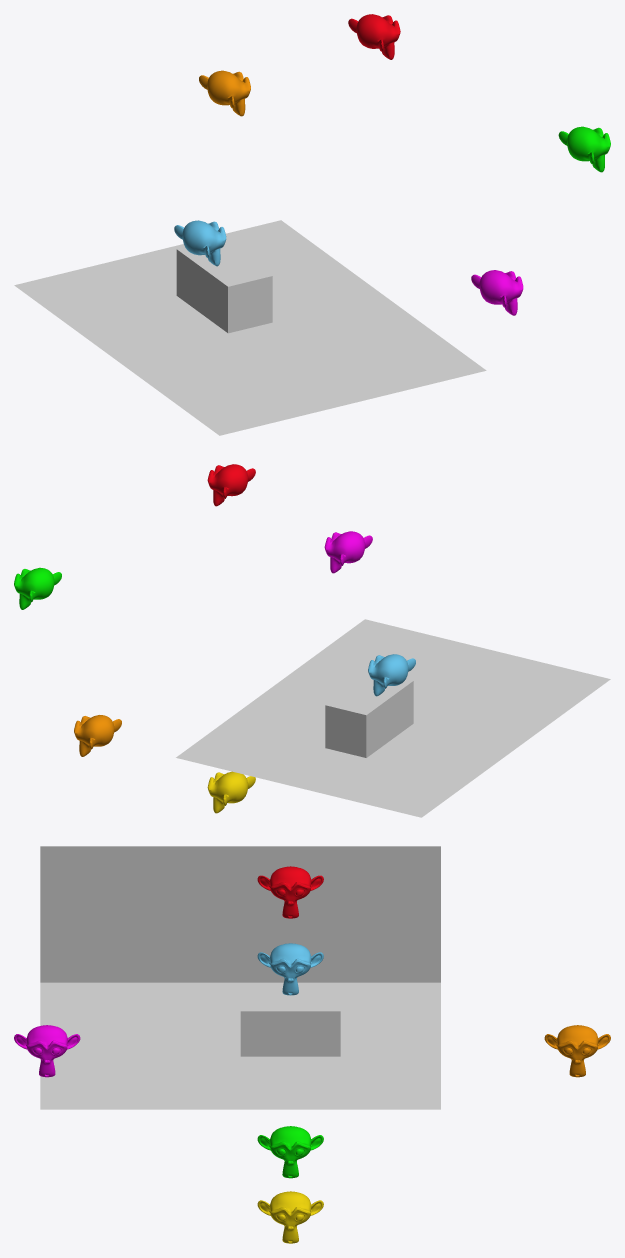
The model's file is webflow manky.glb.
3 renders of one model, top to bottom at view 1: azimuth 30°, elevation 25°; view 2: azimuth 150°, elevation 25°; view 3: azimuth 270°, elevation 25°, orthographic. The views are drawn at different scales.
Visible parts, largest first — view 1: Plane, Cube, Suzanne.004, Suzanne, Suzanne.005, Suzanne.002, Suzanne.001; view 2: Plane, Cube, Suzanne.004, Suzanne.001, Suzanne.002, Suzanne.005, Suzanne, Suzanne.003; view 3: Plane, Cube, Suzanne, Suzanne.004, Suzanne.005, Suzanne.003, Suzanne.001, Suzanne.002.
Part boxes in pixels (box(x1,y1,x2,y2)): Plane: box(14, 220, 486, 435); Cube: box(176, 242, 272, 333); Suzanne.004: box(471, 270, 523, 315); Suzanne: box(174, 220, 226, 266); Suzanne.005: box(199, 70, 250, 116); Suzanne.002: box(348, 14, 400, 59); Suzanne.001: box(558, 126, 610, 172); Plane: box(176, 619, 610, 817); Cube: box(325, 673, 413, 757); Suzanne.004: box(324, 531, 372, 573); Suzanne.001: box(14, 567, 61, 609); Suzanne.002: box(207, 464, 255, 506); Suzanne.005: box(74, 715, 121, 756); Suzanne: box(368, 654, 415, 696); Suzanne.003: box(207, 771, 255, 813); Plane: box(40, 846, 440, 1109); Cube: box(240, 990, 340, 1056); Suzanne: box(257, 943, 323, 995); Suzanne.004: box(14, 1025, 80, 1077); Suzanne.005: box(544, 1025, 610, 1077); Suzanne.003: box(257, 1191, 323, 1243); Suzanne.001: box(257, 1126, 323, 1178); Suzanne.002: box(257, 866, 323, 918).
Size of the model in its own units: 23.09 by 16.23 by 23.84.
